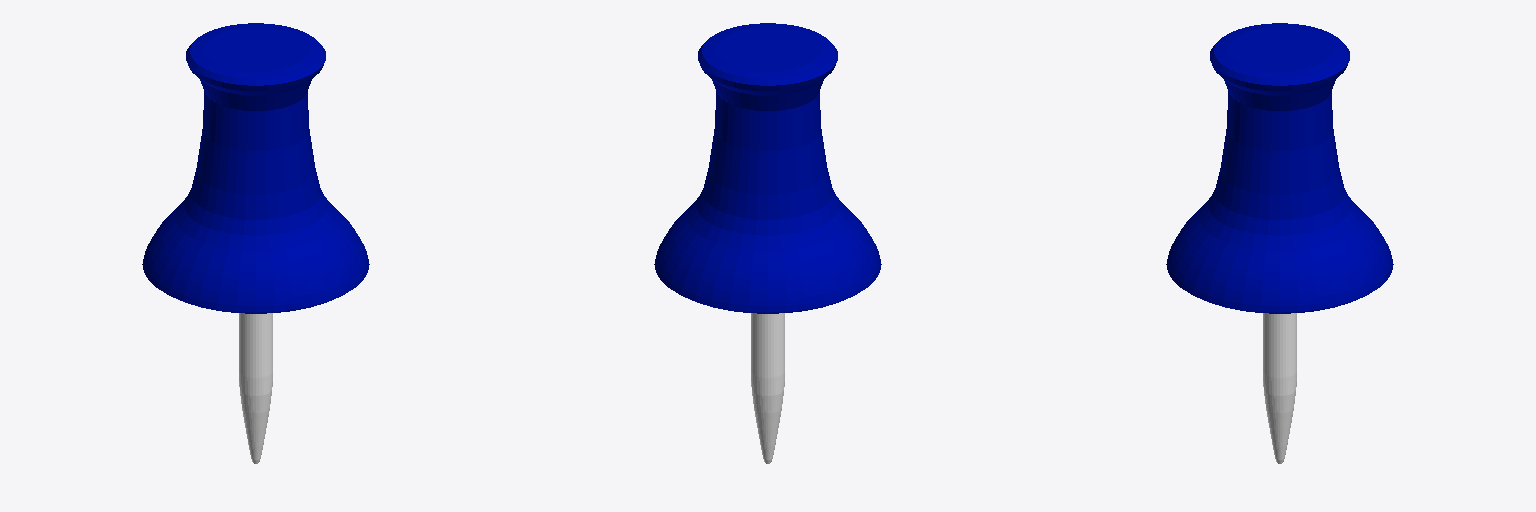
Rendered from Pin.obj.
The picture shows the model from 3 angles: view 1: azimuth 30°, elevation 25°; view 2: azimuth 150°, elevation 25°; view 3: azimuth 270°, elevation 25°; orthographic projection.
Visible parts, largest first — view 1: Cylinder01, Cylinder02; view 2: Cylinder01, Cylinder02; view 3: Cylinder01, Cylinder02.
Boxes of the visible parts, <box> form: Cylinder01: <box>142,23,369,313</box>; Cylinder02: <box>239,313,272,463</box>; Cylinder01: <box>654,23,881,313</box>; Cylinder02: <box>751,313,784,463</box>; Cylinder01: <box>1166,23,1393,313</box>; Cylinder02: <box>1263,313,1296,463</box>.
Size of the model in its own units: 46.07 by 92.43 by 46.07.